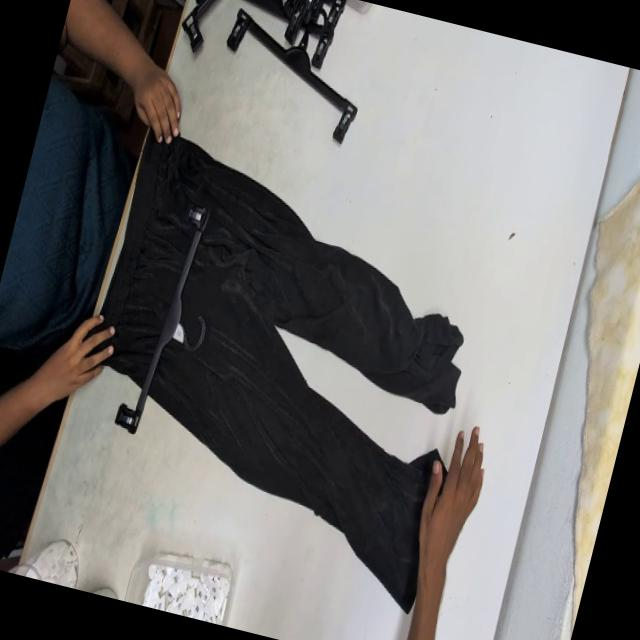new-garment: (103, 138, 462, 610)
